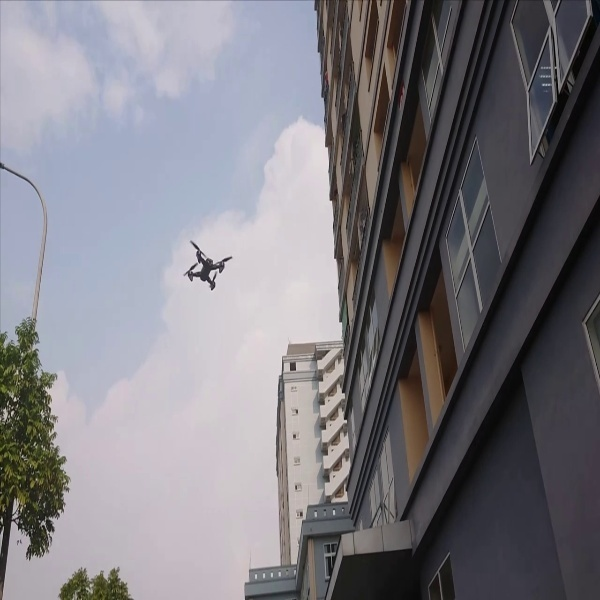drone: (185, 234, 235, 300)
